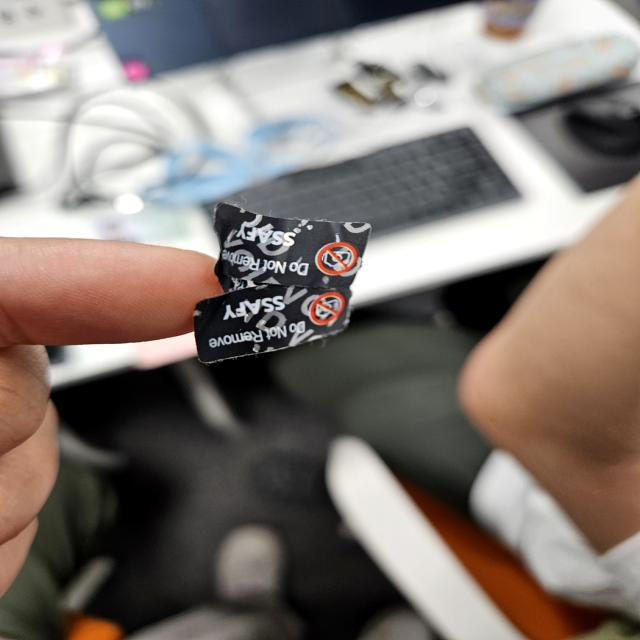removed_sticker: (210, 204, 366, 290), (187, 289, 351, 353)
